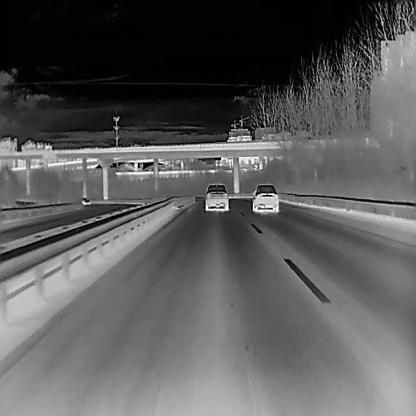car: (251, 184, 279, 212), (204, 183, 229, 210), (82, 197, 91, 204)
